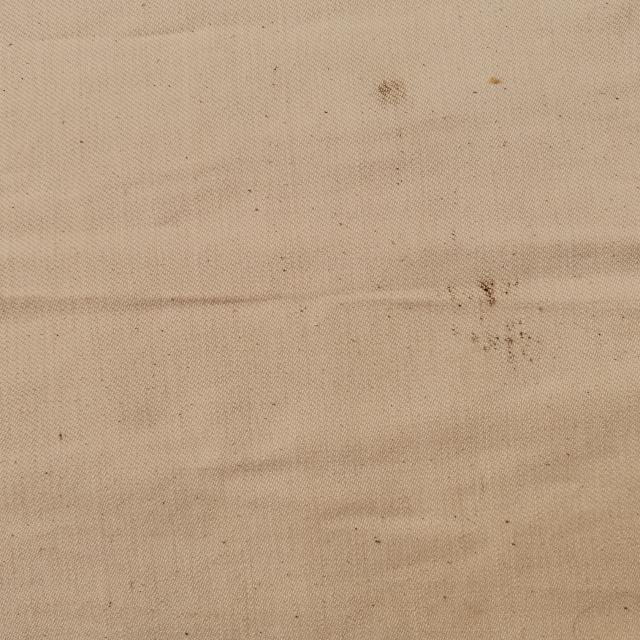taaaches: (426, 276, 552, 371), (356, 72, 418, 108), (479, 71, 513, 87)
